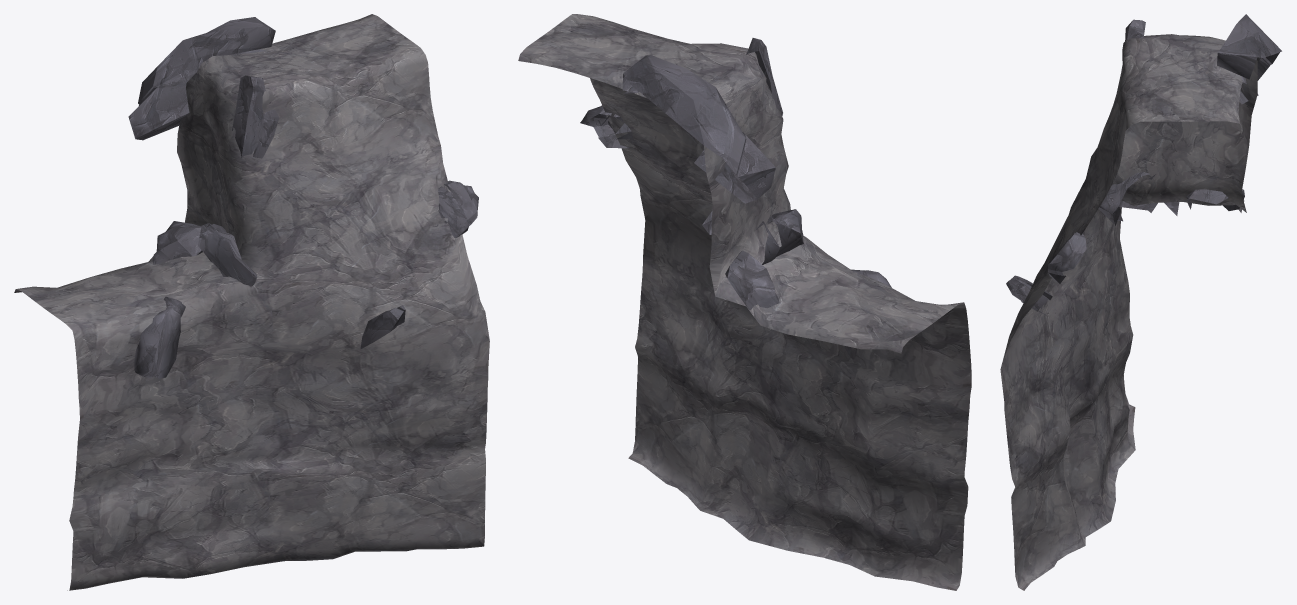
Rendered from Ground Wall (up) 1.fbx.
3 renders of one model, left to right at view 1: azimuth 30°, elevation 25°; view 2: azimuth 150°, elevation 25°; view 3: azimuth 270°, elevation 25°, orthographic. The views are drawn at different scales.
Visible parts, largest first — view 1: GroundWallUp1; view 2: GroundWallUp1; view 3: GroundWallUp1.
Part boxes in pixels (box(x1,y1,x2,y2)): GroundWallUp1: box(14, 14, 489, 590); GroundWallUp1: box(518, 14, 971, 590); GroundWallUp1: box(1000, 14, 1281, 590).
Size of the model in its own units: 10.79 by 13.01 by 6.7.
Materials: 3 (3 with a texture image).
